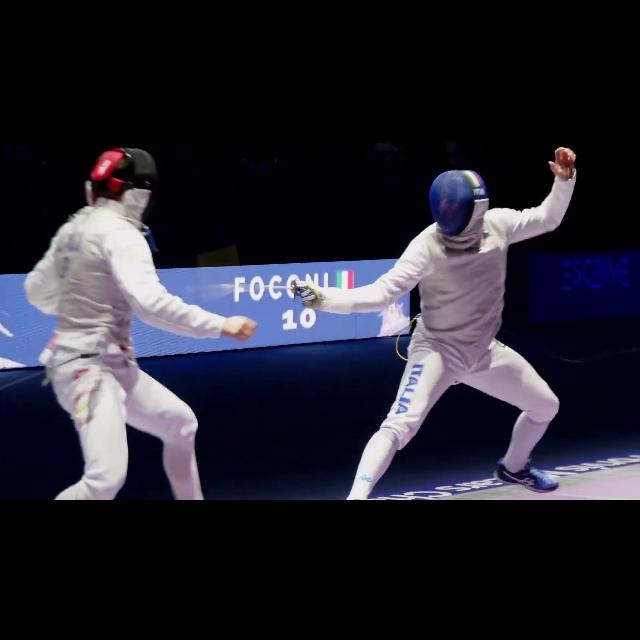blade: (165, 270, 318, 308)
